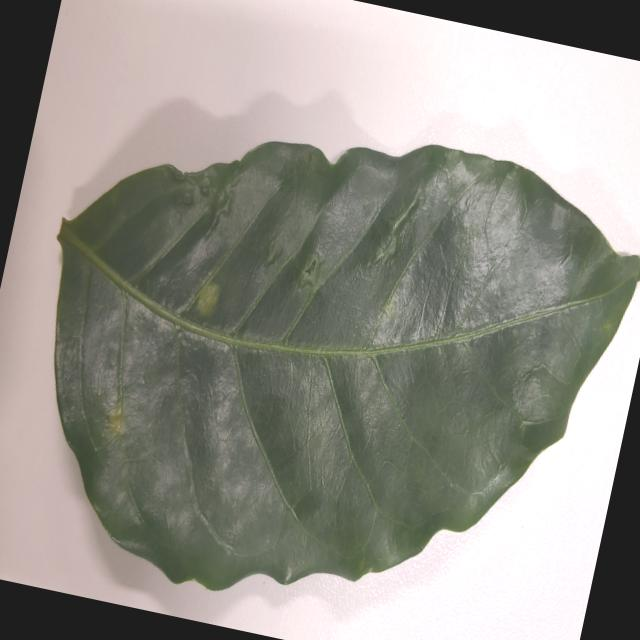KaratDaunKopi: (198, 282, 219, 316), (108, 412, 121, 432)
